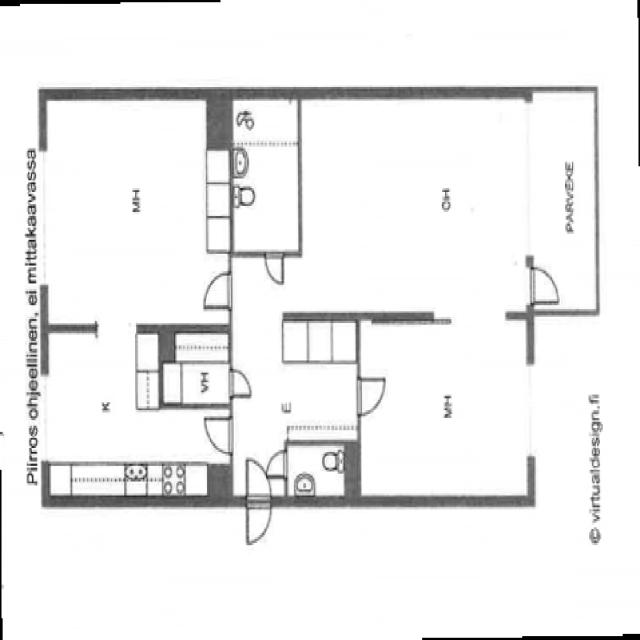door: (240, 454, 275, 551), (514, 260, 568, 307), (352, 370, 390, 421), (198, 264, 236, 312), (201, 408, 235, 457), (260, 246, 290, 290), (228, 365, 253, 399), (266, 448, 290, 480)
window: (24, 139, 57, 302), (518, 92, 541, 267), (519, 351, 545, 469), (35, 366, 58, 473)
zone: (296, 93, 535, 317), (42, 91, 230, 326), (37, 335, 232, 505), (358, 319, 534, 501), (230, 93, 300, 255), (278, 314, 359, 443), (161, 330, 234, 410), (285, 438, 354, 504)
